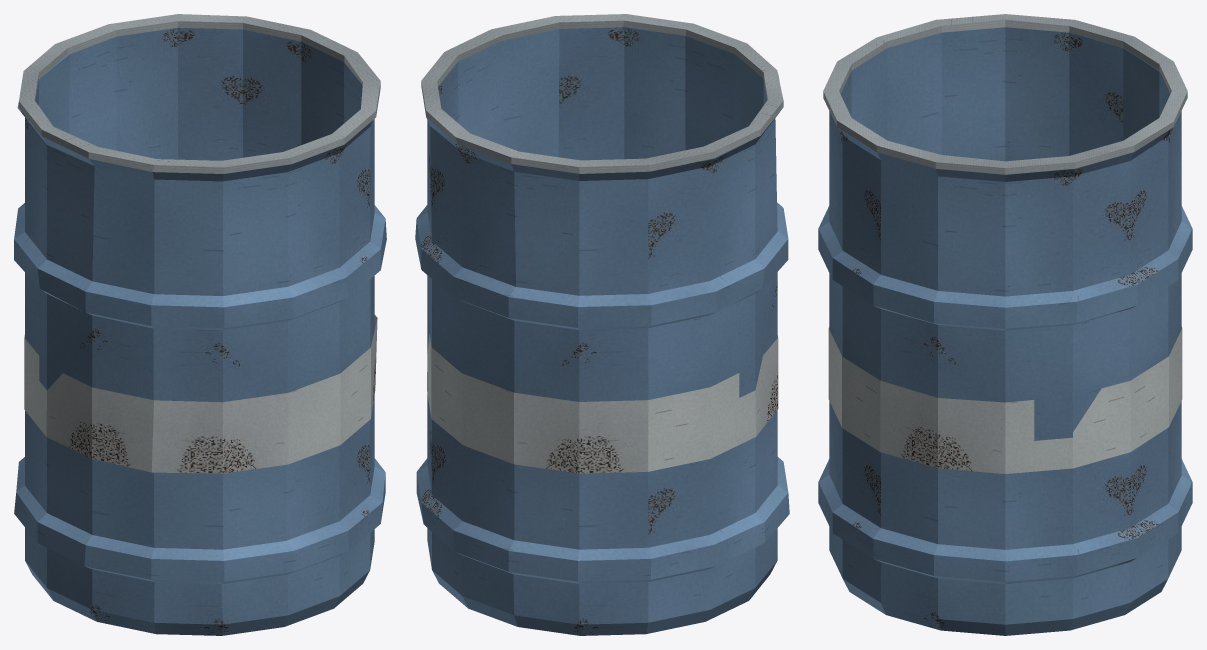
Rendered from barrel3_v4.glb.
3 views of the same model, side by side, from view 1: azimuth 30°, elevation 25°; view 2: azimuth 150°, elevation 25°; view 3: azimuth 270°, elevation 25° (orthographic).
Visible parts, largest first — view 1: Variant_barrel3_4; view 2: Variant_barrel3_4; view 3: Variant_barrel3_4.
Boxes of the visible parts, x1,y1,x2,y2 form: Variant_barrel3_4: [14, 14, 386, 635]; Variant_barrel3_4: [415, 14, 789, 635]; Variant_barrel3_4: [818, 14, 1192, 635].
Bounding box in the file's own units: 0.6174 × 0.86 × 0.616.
Materials: 4 (4 with a texture image).
